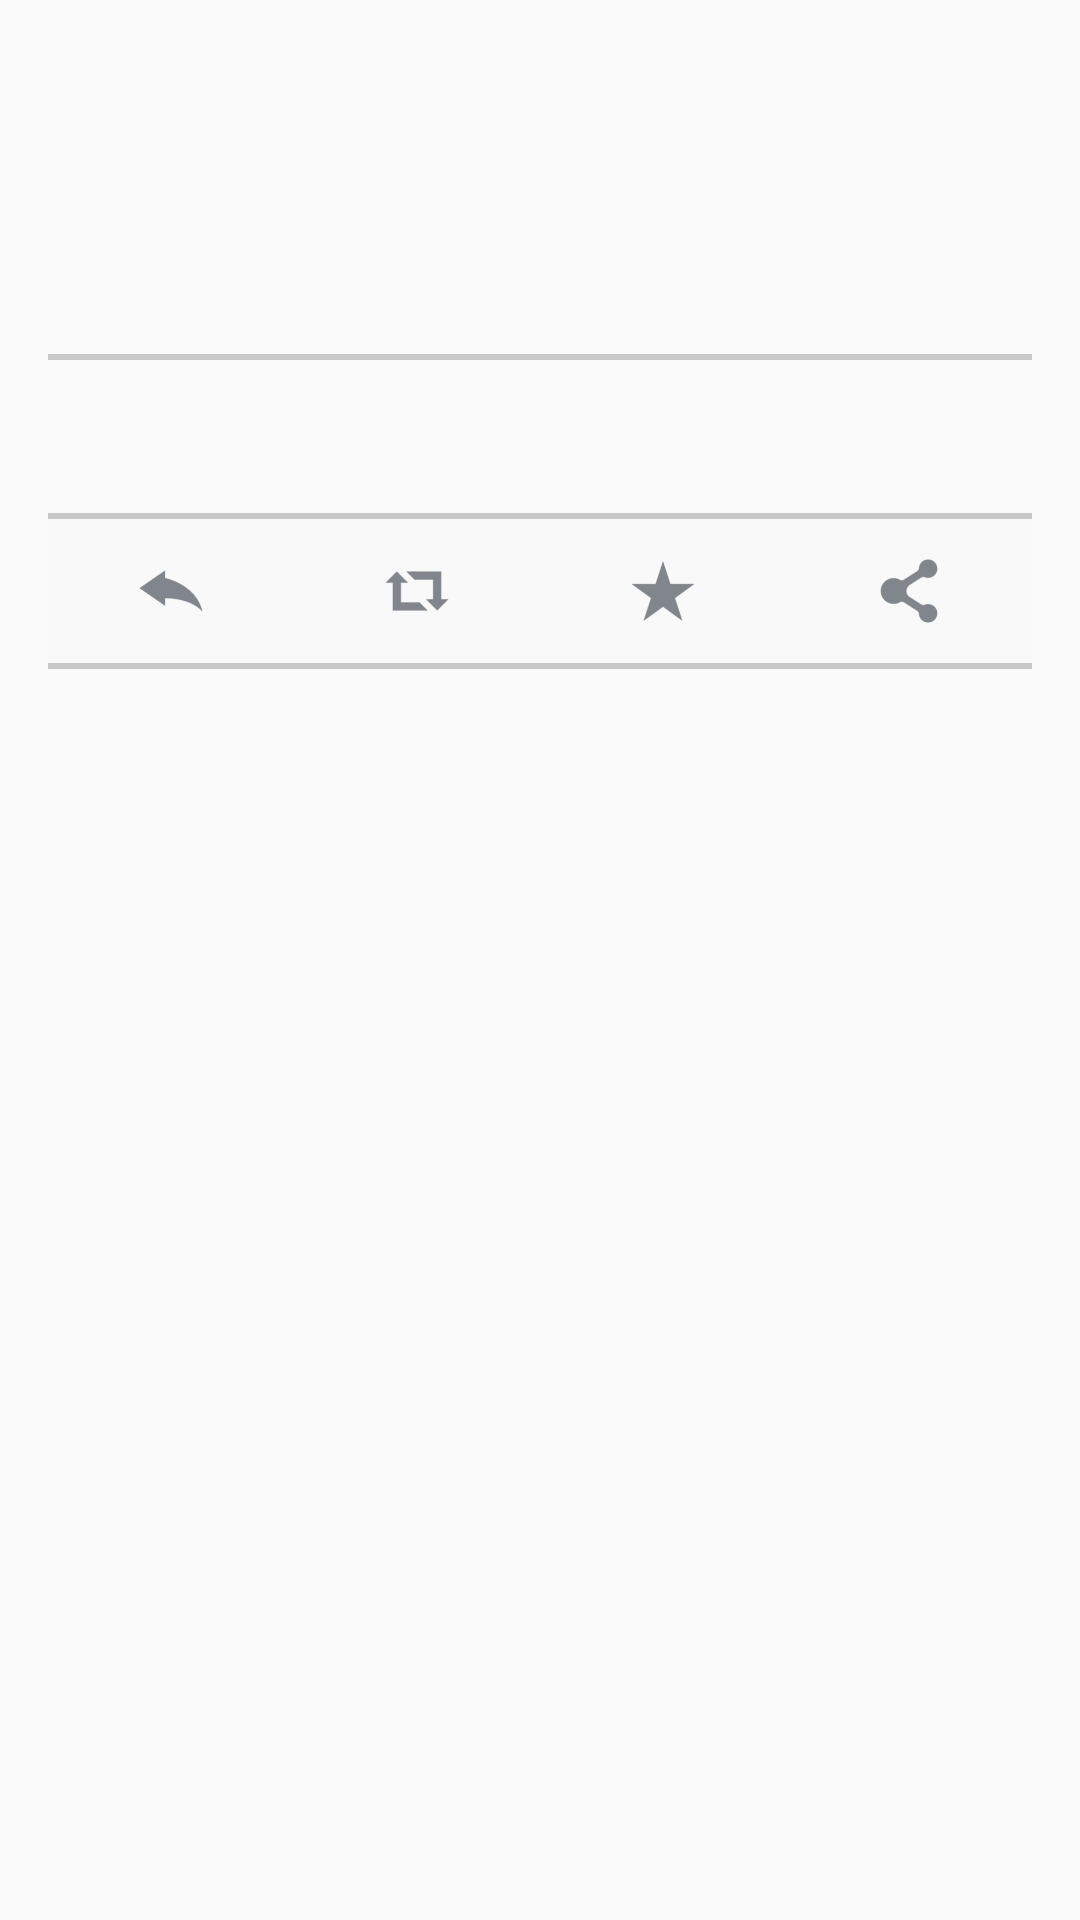

Screen size 1080 x 1920. Icon name, then its box in pixels as (x1, y1, x2, y2):
fav: (632, 562, 694, 621)
reply: (140, 570, 203, 611)
retweet: (386, 571, 448, 611)
share: (880, 559, 938, 623)
